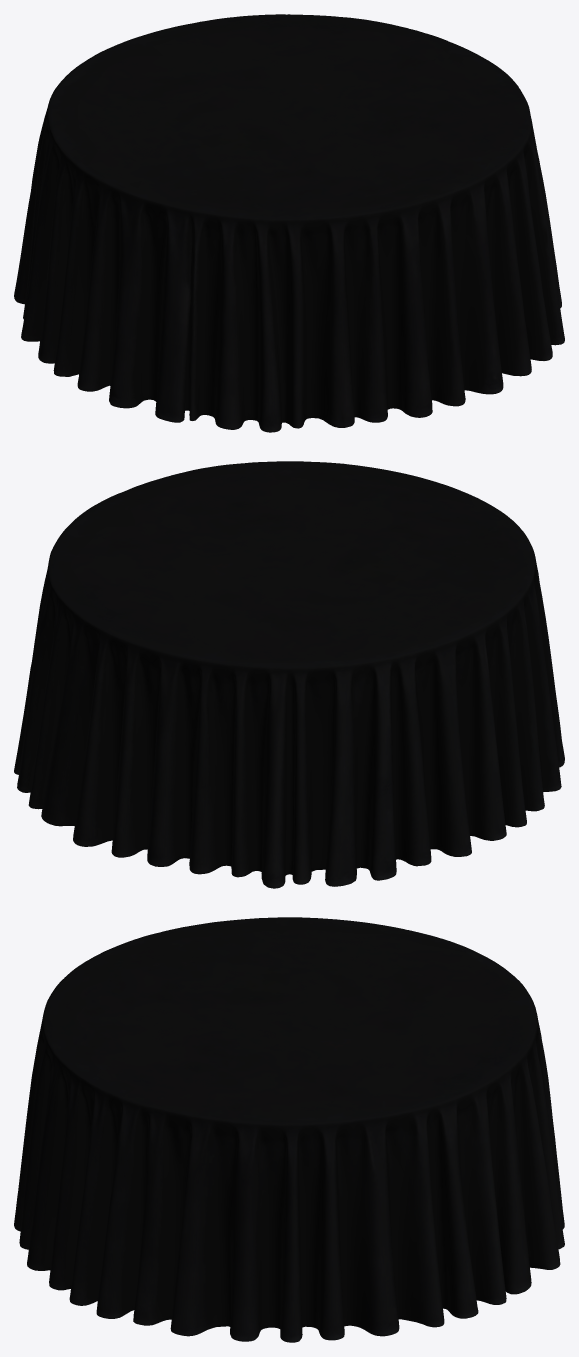
The picture shows the model from 3 angles, top to bottom: view 1: azimuth 30°, elevation 25°; view 2: azimuth 150°, elevation 25°; view 3: azimuth 270°, elevation 25°; orthographic projection.
Visible parts, largest first — view 1: model; view 2: model; view 3: model.
Part boxes in pixels (x1,y1,x2,y2): model: (14,14,564,432); model: (14,461,564,888); model: (14,917,564,1342).
Bounding box in the file's own units: 1.83 × 0.76 × 1.83.
1 material, 1 textured.
